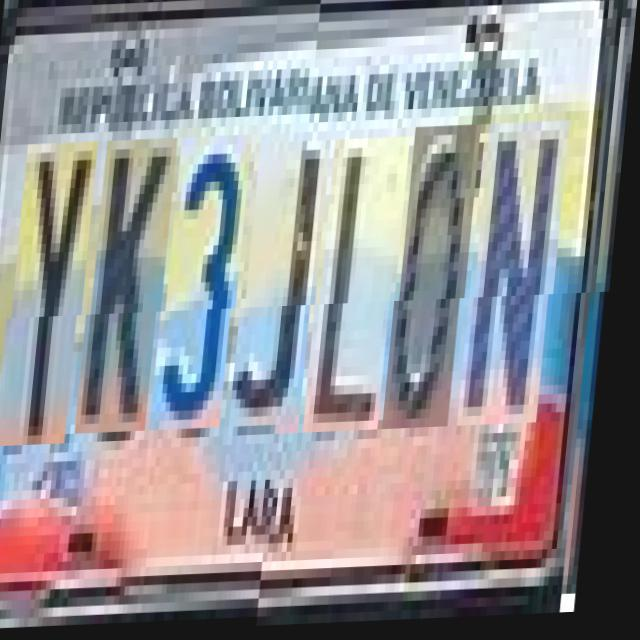3: (162, 146, 254, 441)
J: (242, 143, 334, 438)
K: (88, 148, 180, 444)
L: (316, 140, 413, 436)
N: (470, 126, 572, 430)
O: (396, 129, 484, 433)
Y: (8, 152, 100, 456)
